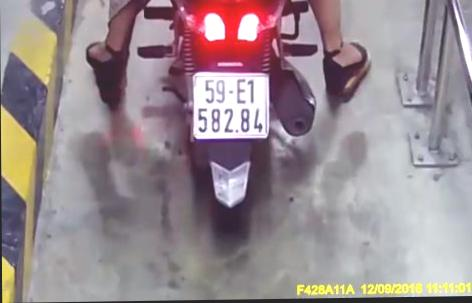License_Plate: (186, 67, 279, 150)
